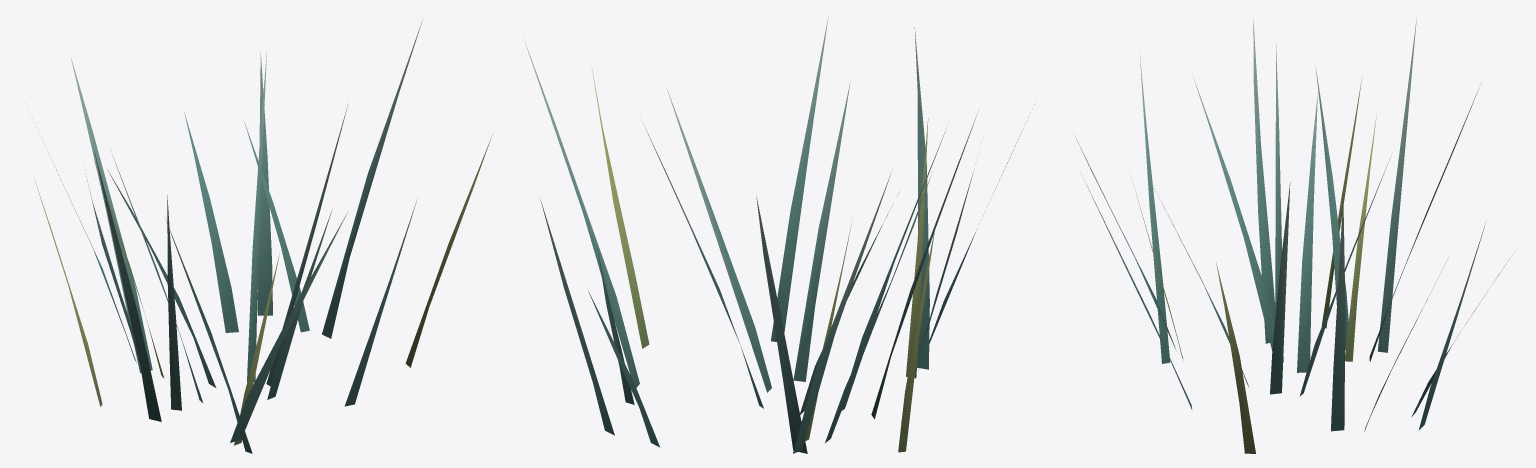
Rendered from BlueFescue_LOD0.glb.
3 views of the same model, side by side, from view 1: azimuth 30°, elevation 25°; view 2: azimuth 150°, elevation 25°; view 3: azimuth 270°, elevation 25° (orthographic). The views are drawn at different scales.
Parts seen in each view (by area): view 1: BlueFescue_LOD0; view 2: BlueFescue_LOD0; view 3: BlueFescue_LOD0.
Part boxes in pixels (x1,y1,x2,y2): BlueFescue_LOD0: [27, 19, 492, 453]; BlueFescue_LOD0: [524, 16, 1034, 453]; BlueFescue_LOD0: [1074, 17, 1509, 453].
Size of the model in its own units: 0.2749 by 0.2083 by 0.2835.
